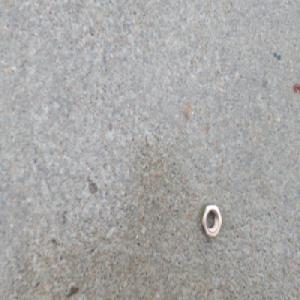Nut: (199, 200, 222, 240)
